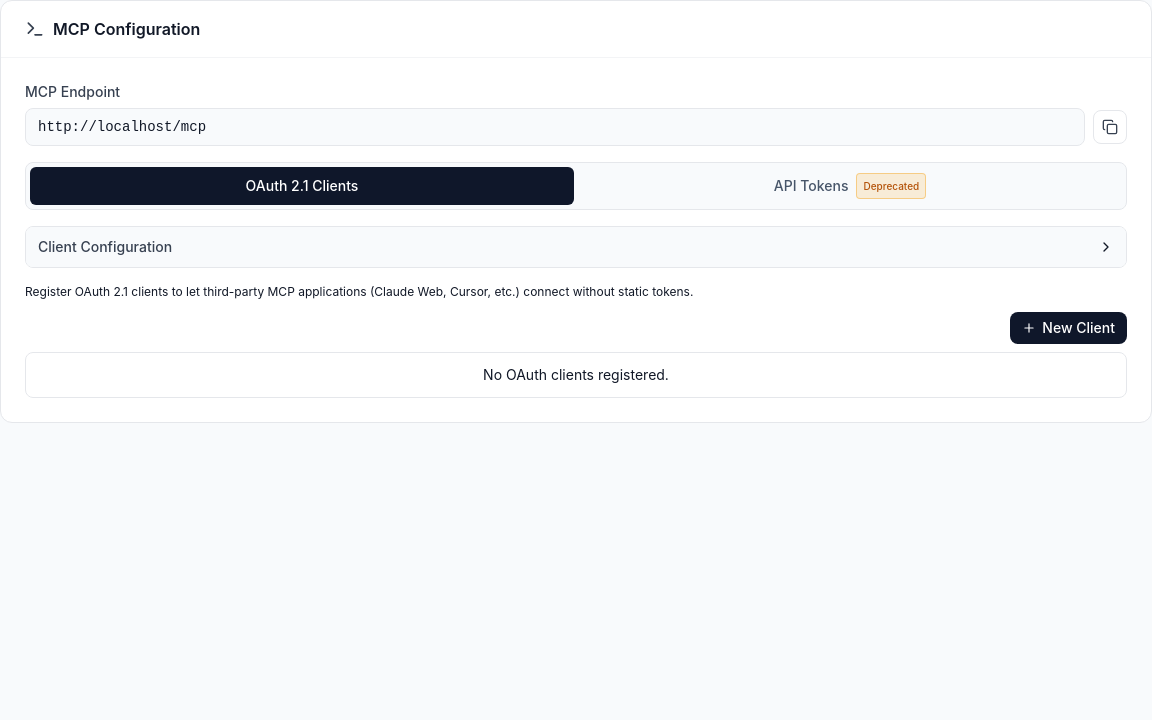
Test: IntegrationsTab › FE-COMP-INTEGRATIONS-005: JSON config block is rendered when expanded
The width and height of the screenshot is (1152, 720).
Expected: the heading "MCP Configuration" is shown, [53, 17, 200, 41]
# Expand by clicking the "Client Configuration" toggle
What coordinates should you click on to do the following:
click the button "Client Configuration"
I would click on:
 (105, 246)
Its box is [26, 227, 1126, 267].
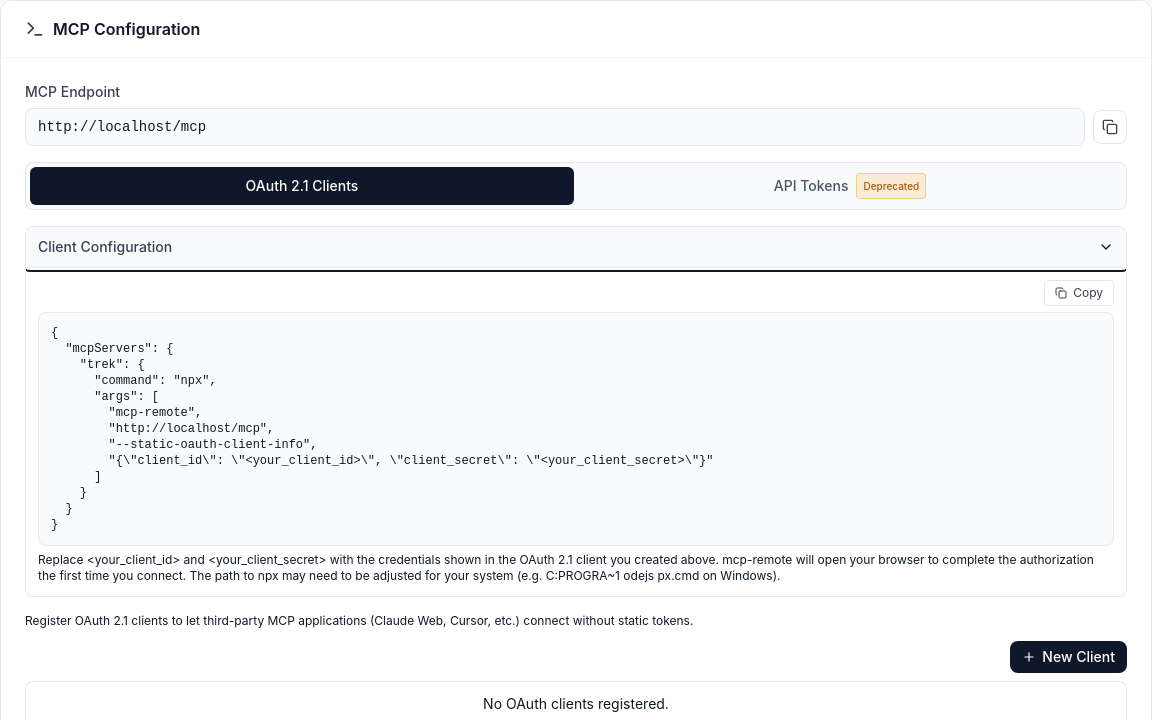
Result: the text "mcpServers" is shown at [51, 326, 714, 532]
